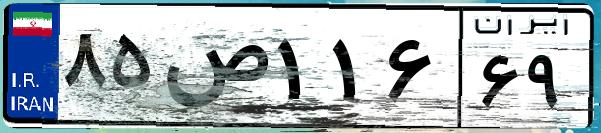1: (270, 28, 330, 110), (330, 28, 385, 110)
5: (110, 28, 158, 98)
6: (385, 28, 445, 110), (475, 38, 525, 113)
8: (57, 26, 110, 100)
9: (525, 38, 570, 115)
ص: (158, 20, 270, 120)
